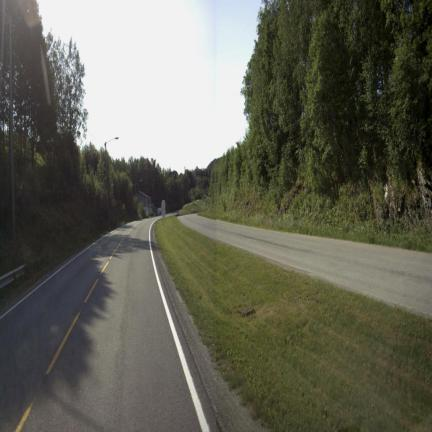Road: (0, 219, 236, 431), (179, 215, 431, 316)
